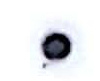cancer: (26, 20, 93, 76)
